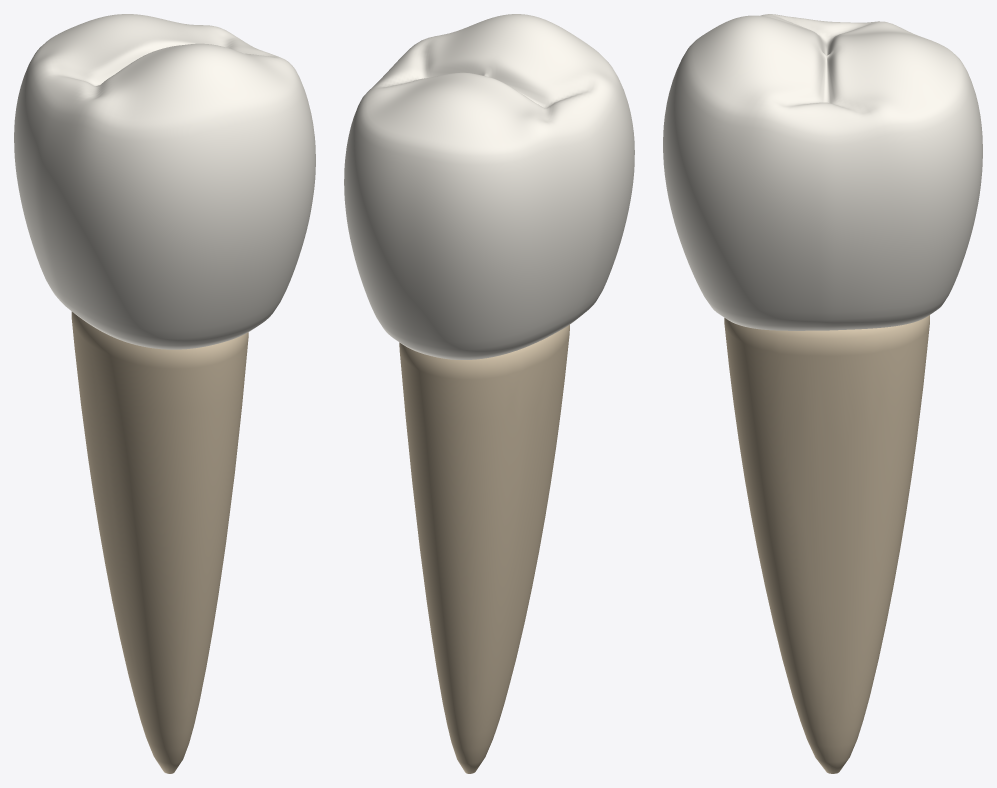
File: premolar_inf.glb
3 views of the same model, side by side, from view 1: azimuth 30°, elevation 25°; view 2: azimuth 150°, elevation 25°; view 3: azimuth 270°, elevation 25° (orthographic). The views are drawn at different scales.
Visible parts, largest first — view 1: Corona, Raices; view 2: Corona, Raices; view 3: Corona, Raices.
Boxes of the visible parts, box(x1,y1,x2,y2) form: Corona: box(14, 14, 315, 349); Raices: box(71, 311, 248, 773); Corona: box(344, 14, 634, 359); Raices: box(399, 325, 569, 773); Corona: box(663, 14, 982, 330); Raices: box(724, 315, 929, 773).
Bounding box in the file's own units: 0.00717 × 0.0211 × 0.0082.
